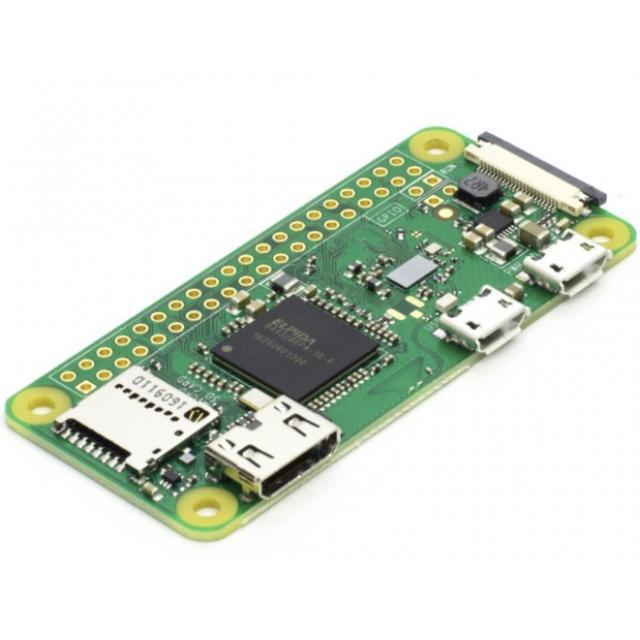Raspberry-Pi-Zero-W: (6, 127, 634, 542)
